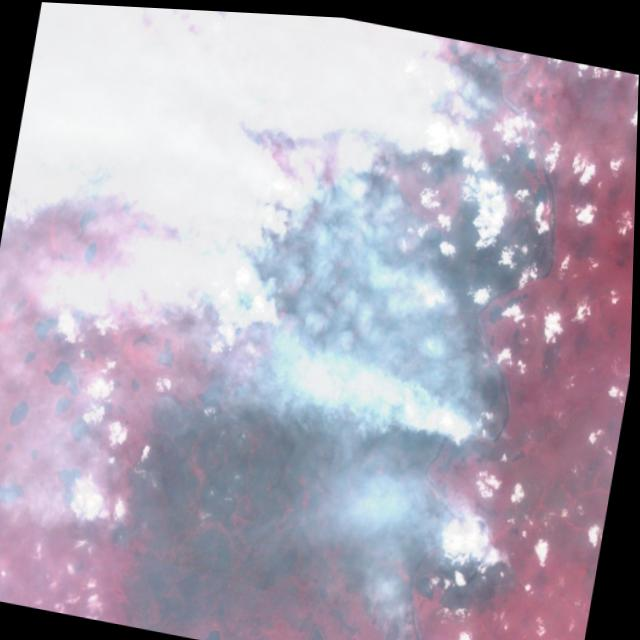fire: (211, 9, 582, 468), (348, 503, 531, 640), (91, 479, 155, 559)
